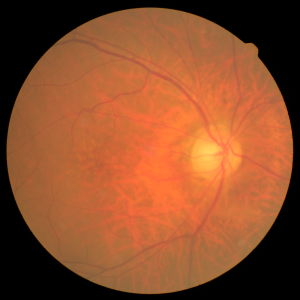retina_disease: (57, 85, 270, 219)
